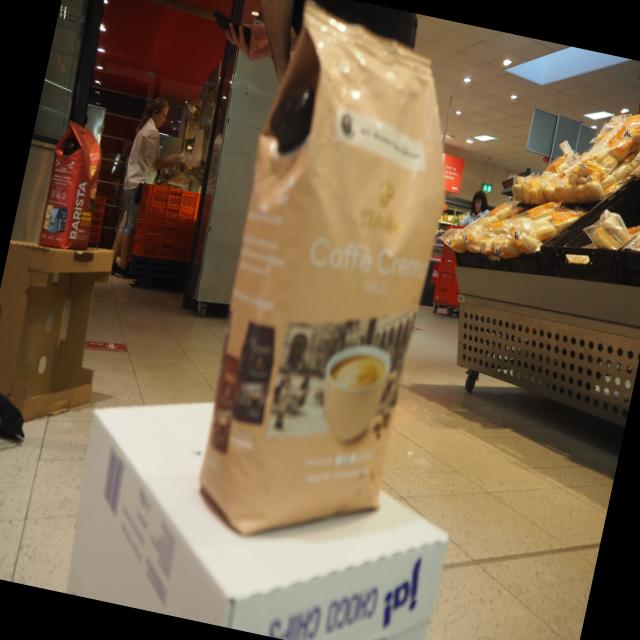CC Mild: (170, 0, 486, 572)
